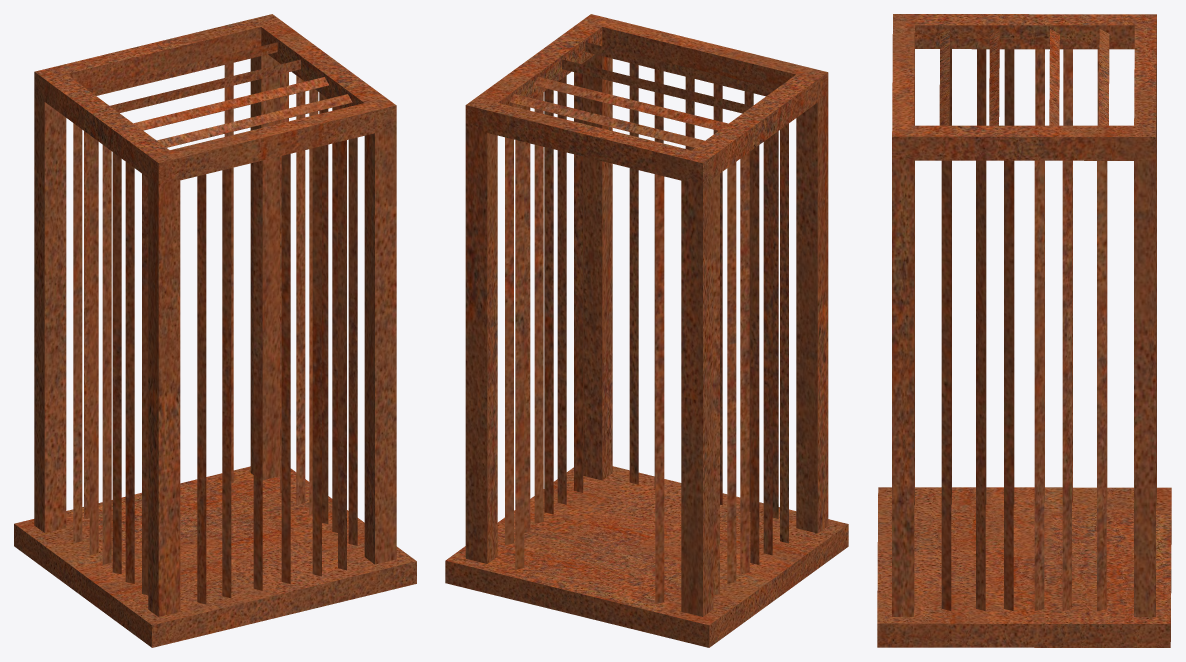
Rendered from cage1.glb.
The picture shows the model from 3 angles, left to right: view 1: azimuth 30°, elevation 25°; view 2: azimuth 150°, elevation 25°; view 3: azimuth 270°, elevation 25°; orthographic projection. The views are drawn at different scales.
Visible parts, largest first — view 1: cageBigSingle; view 2: cageBigSingle; view 3: cageBigSingle.
Boxes of the visible parts, box(x1,y1,x2,y2) form: cageBigSingle: box(14, 14, 416, 647); cageBigSingle: box(445, 14, 848, 647); cageBigSingle: box(877, 14, 1171, 647).
Size of what is drawn, in the model's own units: 1.27 by 2.18 by 1.15.
Materials: 1 (1 with a texture image).
